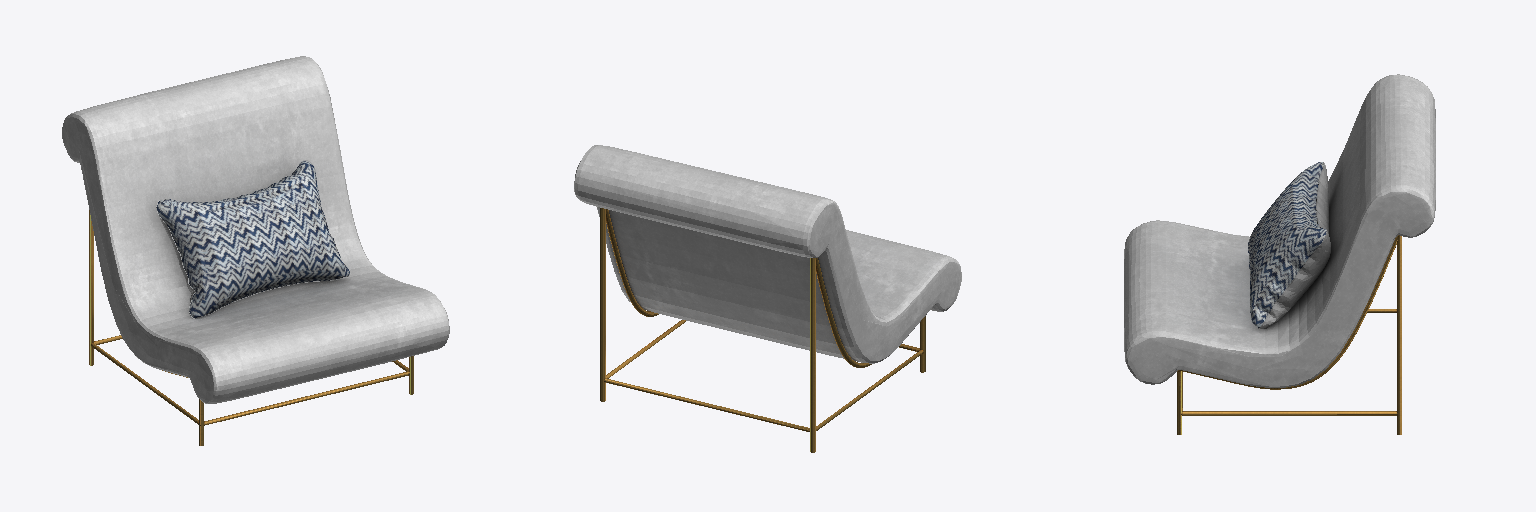
3 renders of one model, left to right at view 1: azimuth 30°, elevation 25°; view 2: azimuth 150°, elevation 25°; view 3: azimuth 270°, elevation 25°, orthographic.
Parts seen in each view (by area): view 1: solid_001, solid_003, solid_002; view 2: solid_001, solid_002; view 3: solid_001, solid_003, solid_002, solid_004.
Part boxes in pixels (left/top/right/bottom): solid_001: left=62, top=56, right=449, bottom=403; solid_003: left=157, top=161, right=349, bottom=317; solid_002: left=89, top=210, right=413, bottom=445; solid_001: left=574, top=145, right=961, bottom=363; solid_002: left=600, top=208, right=925, bottom=452; solid_001: left=1124, top=74, right=1435, bottom=387; solid_003: left=1248, top=162, right=1326, bottom=327; solid_002: left=1177, top=235, right=1401, bottom=434; solid_004: left=1258, top=163, right=1330, bottom=328.
Size of the model in its own units: 1.26 by 1.28 by 1.43.
1 materials, 1 textured.